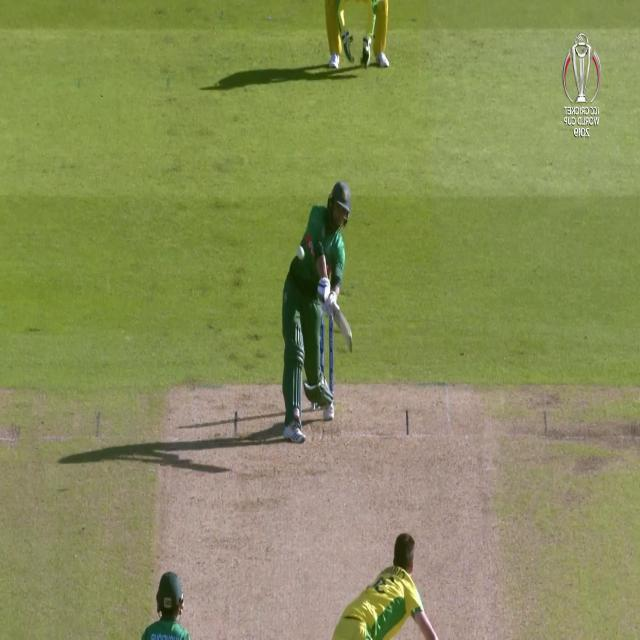ball: (296, 245, 305, 261)
